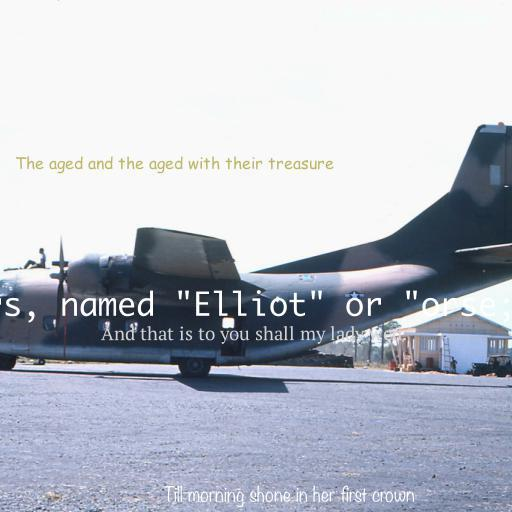Comic Sans MS: (14, 156, 334, 174)
Monaco: (0, 290, 512, 323)
Noteworthy: (163, 485, 415, 508), (326, 6, 490, 29)
PT Serif: (101, 326, 413, 345)
